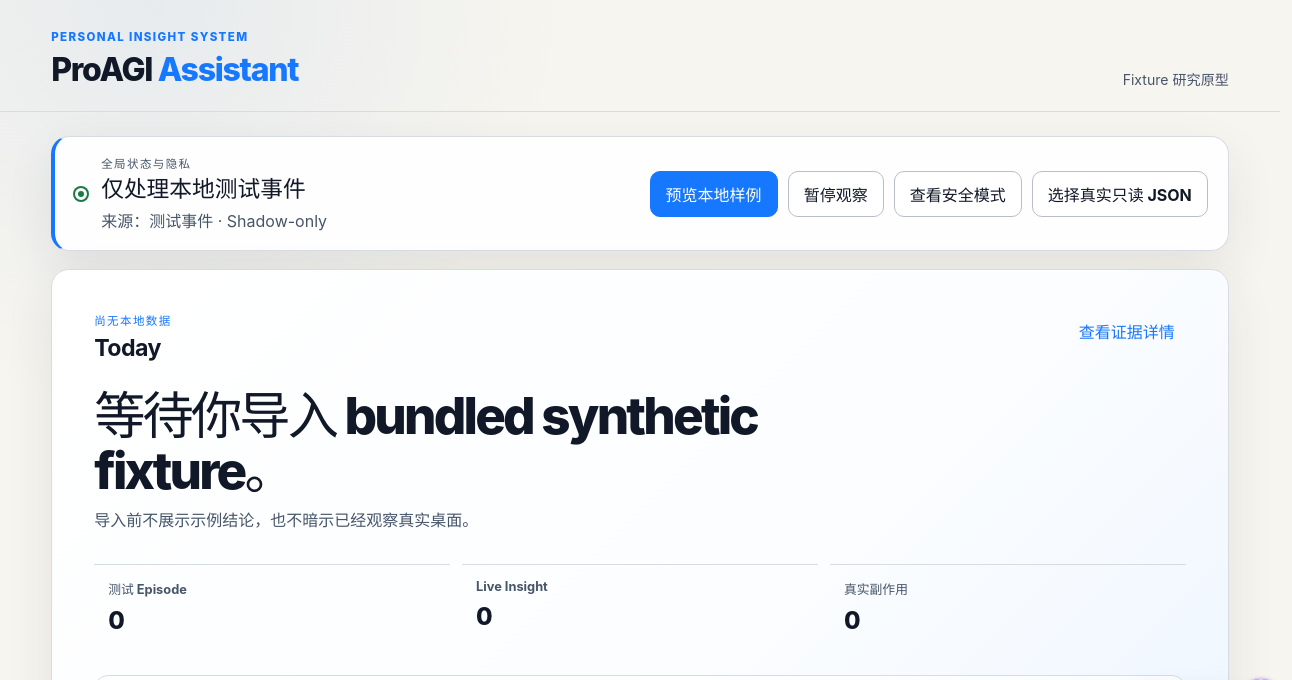
Test case: runnable Insight Loop UI › blocks fixture import while PRIVATE without claiming success
The width and height of the screenshot is (1292, 680).
Click the button "暂停观察" at (836, 194), box [788, 170, 884, 216]
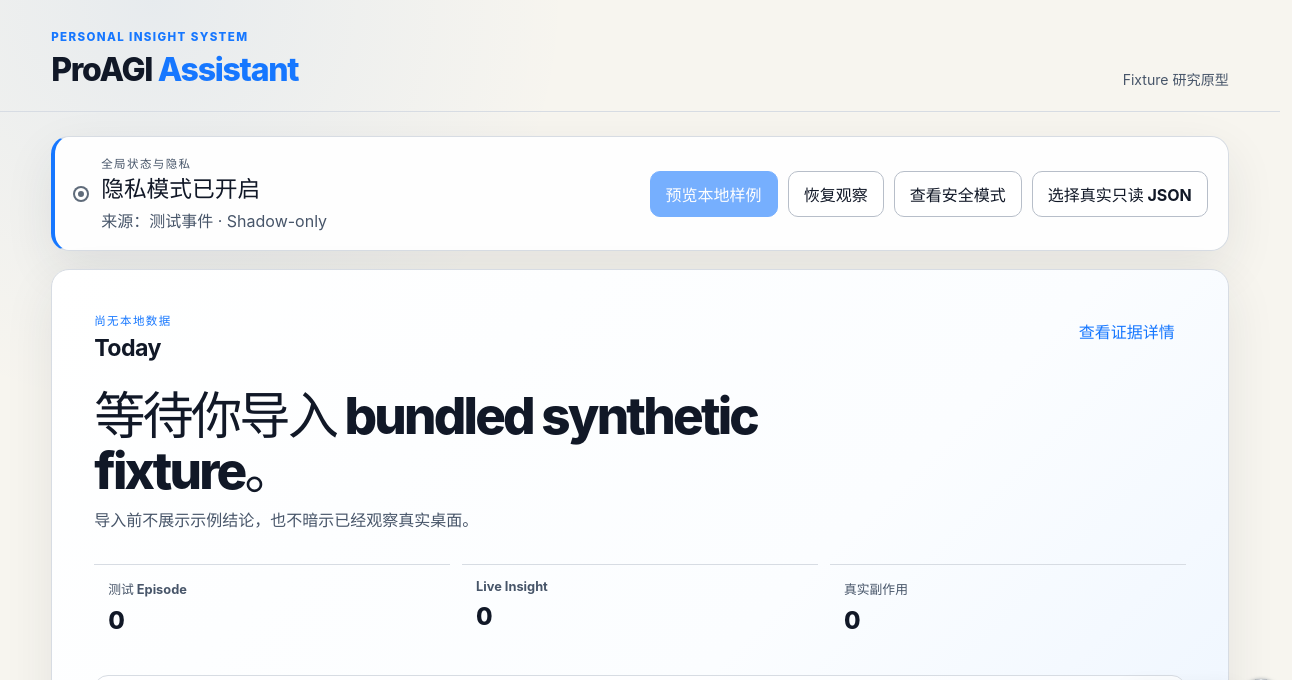
Now the heading "隐私模式已开启" is shown, box [101, 175, 260, 202]
Now the button "预览本地样例" is disabled, box [650, 170, 778, 216]
